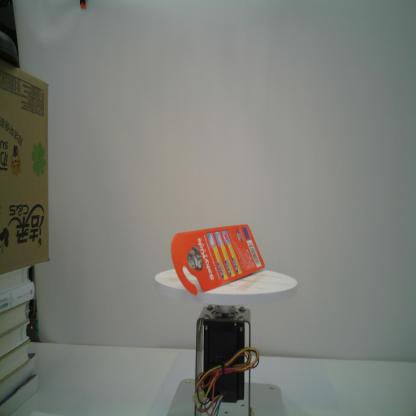Personal Hygiene: (171, 224, 265, 296)
